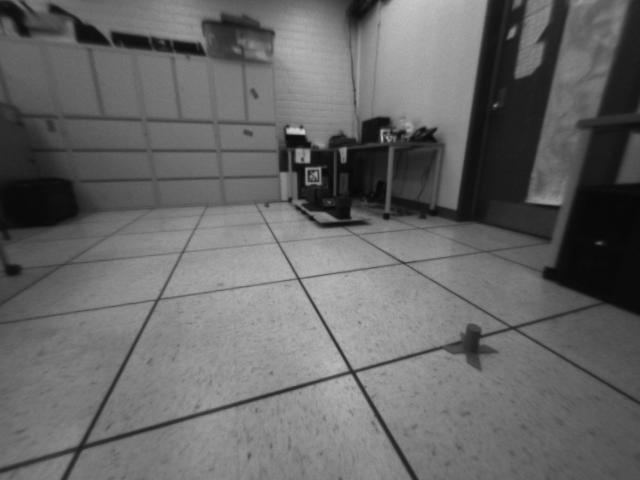X: (440, 322, 500, 372)
